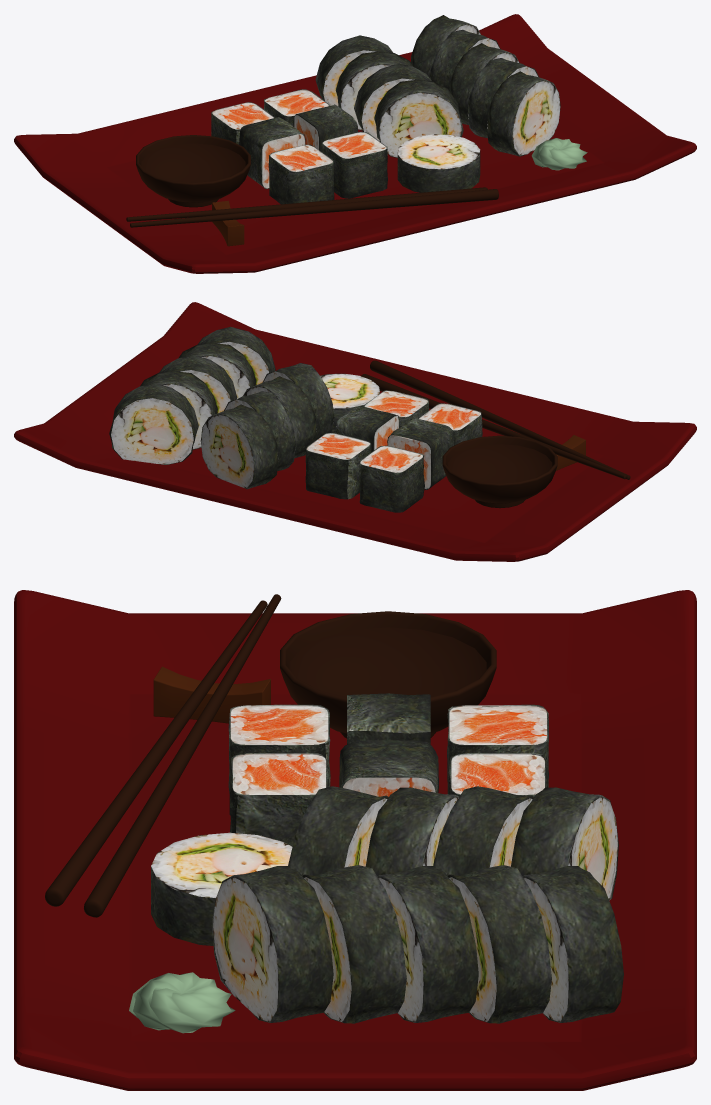
The model's file is Pg29Sushiset.fbx.
3 views of the same model, one above another, from view 1: azimuth 30°, elevation 25°; view 2: azimuth 150°, elevation 25°; view 3: azimuth 270°, elevation 25° (orthographic). The views are drawn at different scales.
Visible parts, largest first — view 1: Plate, Roll_2, Roll_1, Plate_Small, Sause, Stick_1, Stick_2, Wasabi, Stick_Holder; view 2: Plate, Roll_2, Roll_1, Plate_Small, Sause, Stick_1, Stick_2, Stick_Holder; view 3: Plate, Roll_2, Roll_1, Plate_Small, Sause, Stick_2, Stick_1, Wasabi, Stick_Holder.
Part boxes in pixels (x1,y1,x2,y2): Plate: (14,14,696,273); Roll_2: (315,15,560,192); Roll_1: (211,89,387,204); Plate_Small: (136,135,250,207); Sause: (141,143,245,182); Stick_1: (130,189,498,227); Stick_2: (126,187,487,221); Wasabi: (531,138,587,170); Stick_Holder: (212,200,244,246); Plate: (14,302,696,561); Roll_2: (109,326,379,489); Roll_1: (305,390,482,512); Plate_Small: (442,435,557,508); Sause: (448,444,552,483); Stick_1: (370,360,630,479); Stick_2: (361,374,626,479); Stick_Holder: (556,435,585,470); Plate: (14,590,696,1090); Roll_2: (151,786,623,1023); Roll_1: (228,693,548,846); Plate_Small: (280,611,496,738); Sause: (289,627,486,696); Stick_2: (84,594,281,917); Stick_1: (45,600,267,906); Wasabi: (129,972,235,1033); Stick_Holder: (153,666,270,723).
Bounding box in the file's own units: 279 × 40.54 × 173.
Materials: 6 (1 with a texture image).
